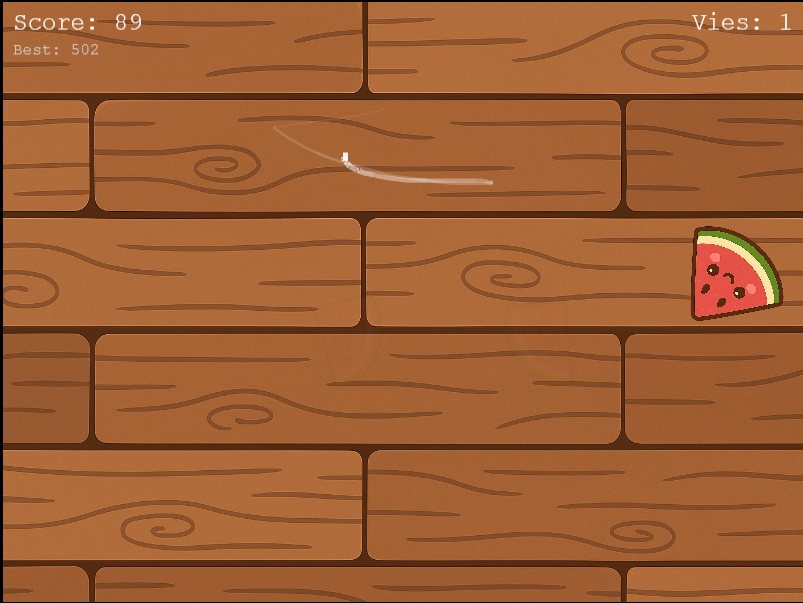fruit: (683, 220, 792, 328)
